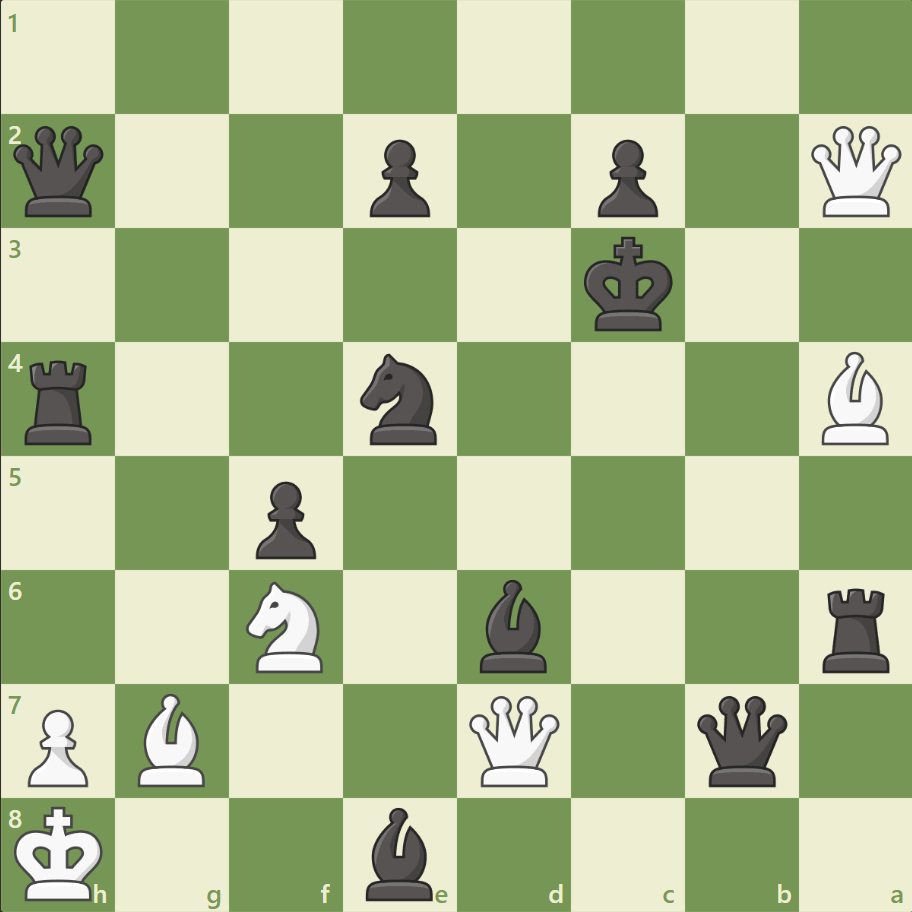B: (131, 687, 215, 790), (812, 347, 896, 449)
K: (11, 798, 111, 906)
N: (238, 575, 335, 677)
P: (20, 700, 95, 791)
Q: (805, 122, 904, 222), (464, 690, 563, 789)
b: (358, 801, 442, 904), (471, 574, 555, 676)
k: (579, 231, 679, 339)
n: (351, 348, 449, 450)
p: (247, 473, 322, 564), (588, 132, 662, 223), (361, 132, 435, 223)
q: (10, 122, 109, 222), (691, 690, 790, 789)
r: (814, 579, 897, 676), (19, 352, 102, 449)
